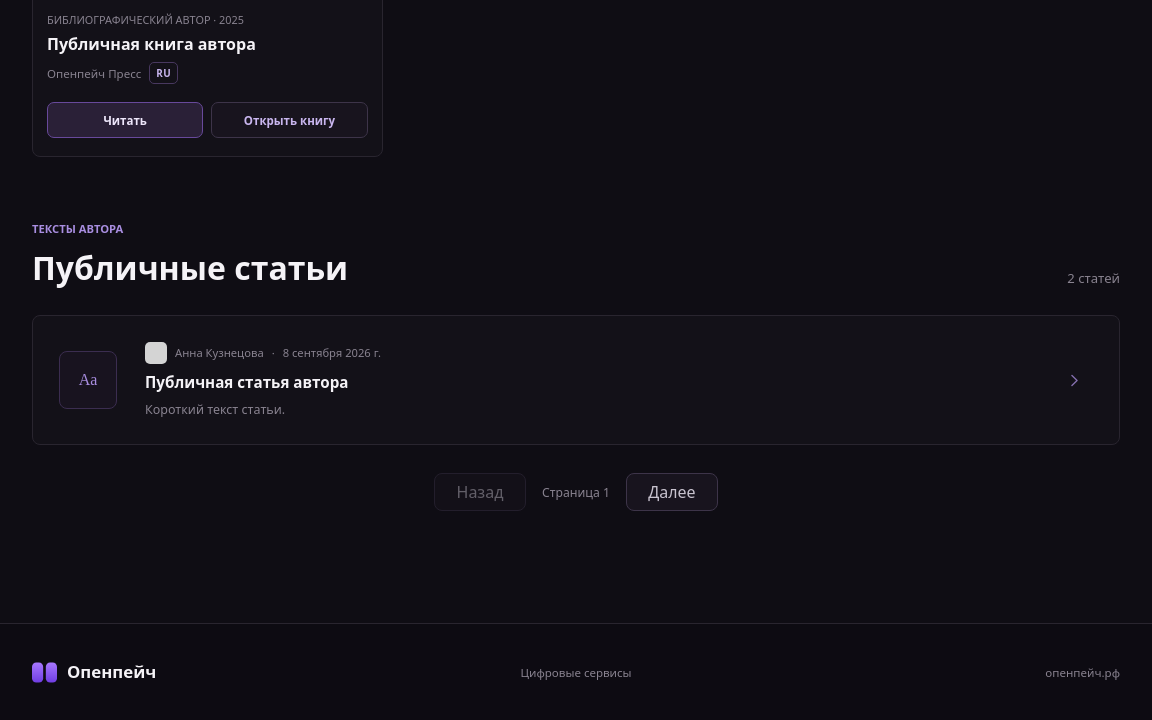
Test: PublicAuthorPage › переключает pagination статей независимо от книг
This screenshot has width=1152, height=720.
(page scrolled)
Click the button "Далее" at (672, 492), box 626,473 -> 718,511
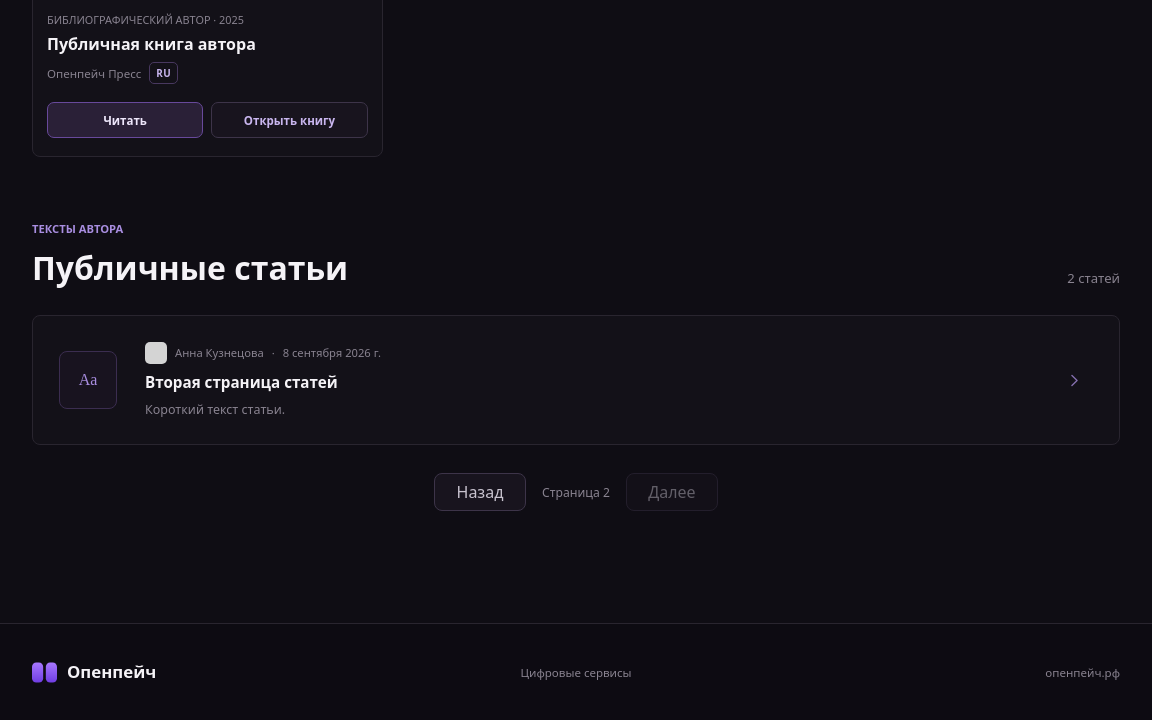
Expected: the heading "Публичная книга автора" is shown, 47,33 -> 256,55
Result: the heading "Вторая страница статей" is shown at 145,372 -> 338,392
